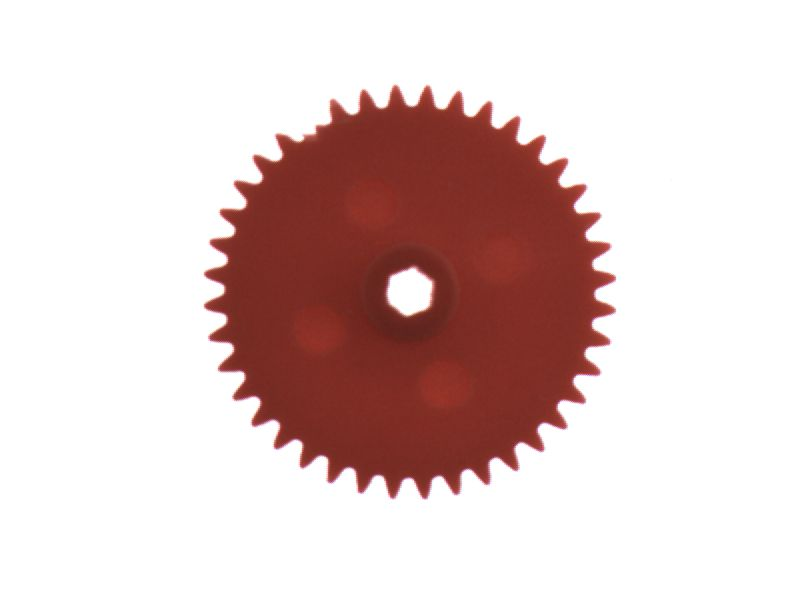defect_lack: (285, 106, 344, 154)
